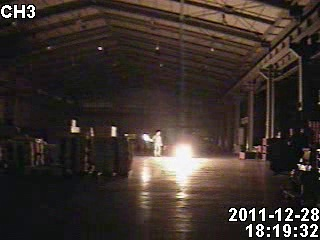fire: (172, 141, 195, 164)
